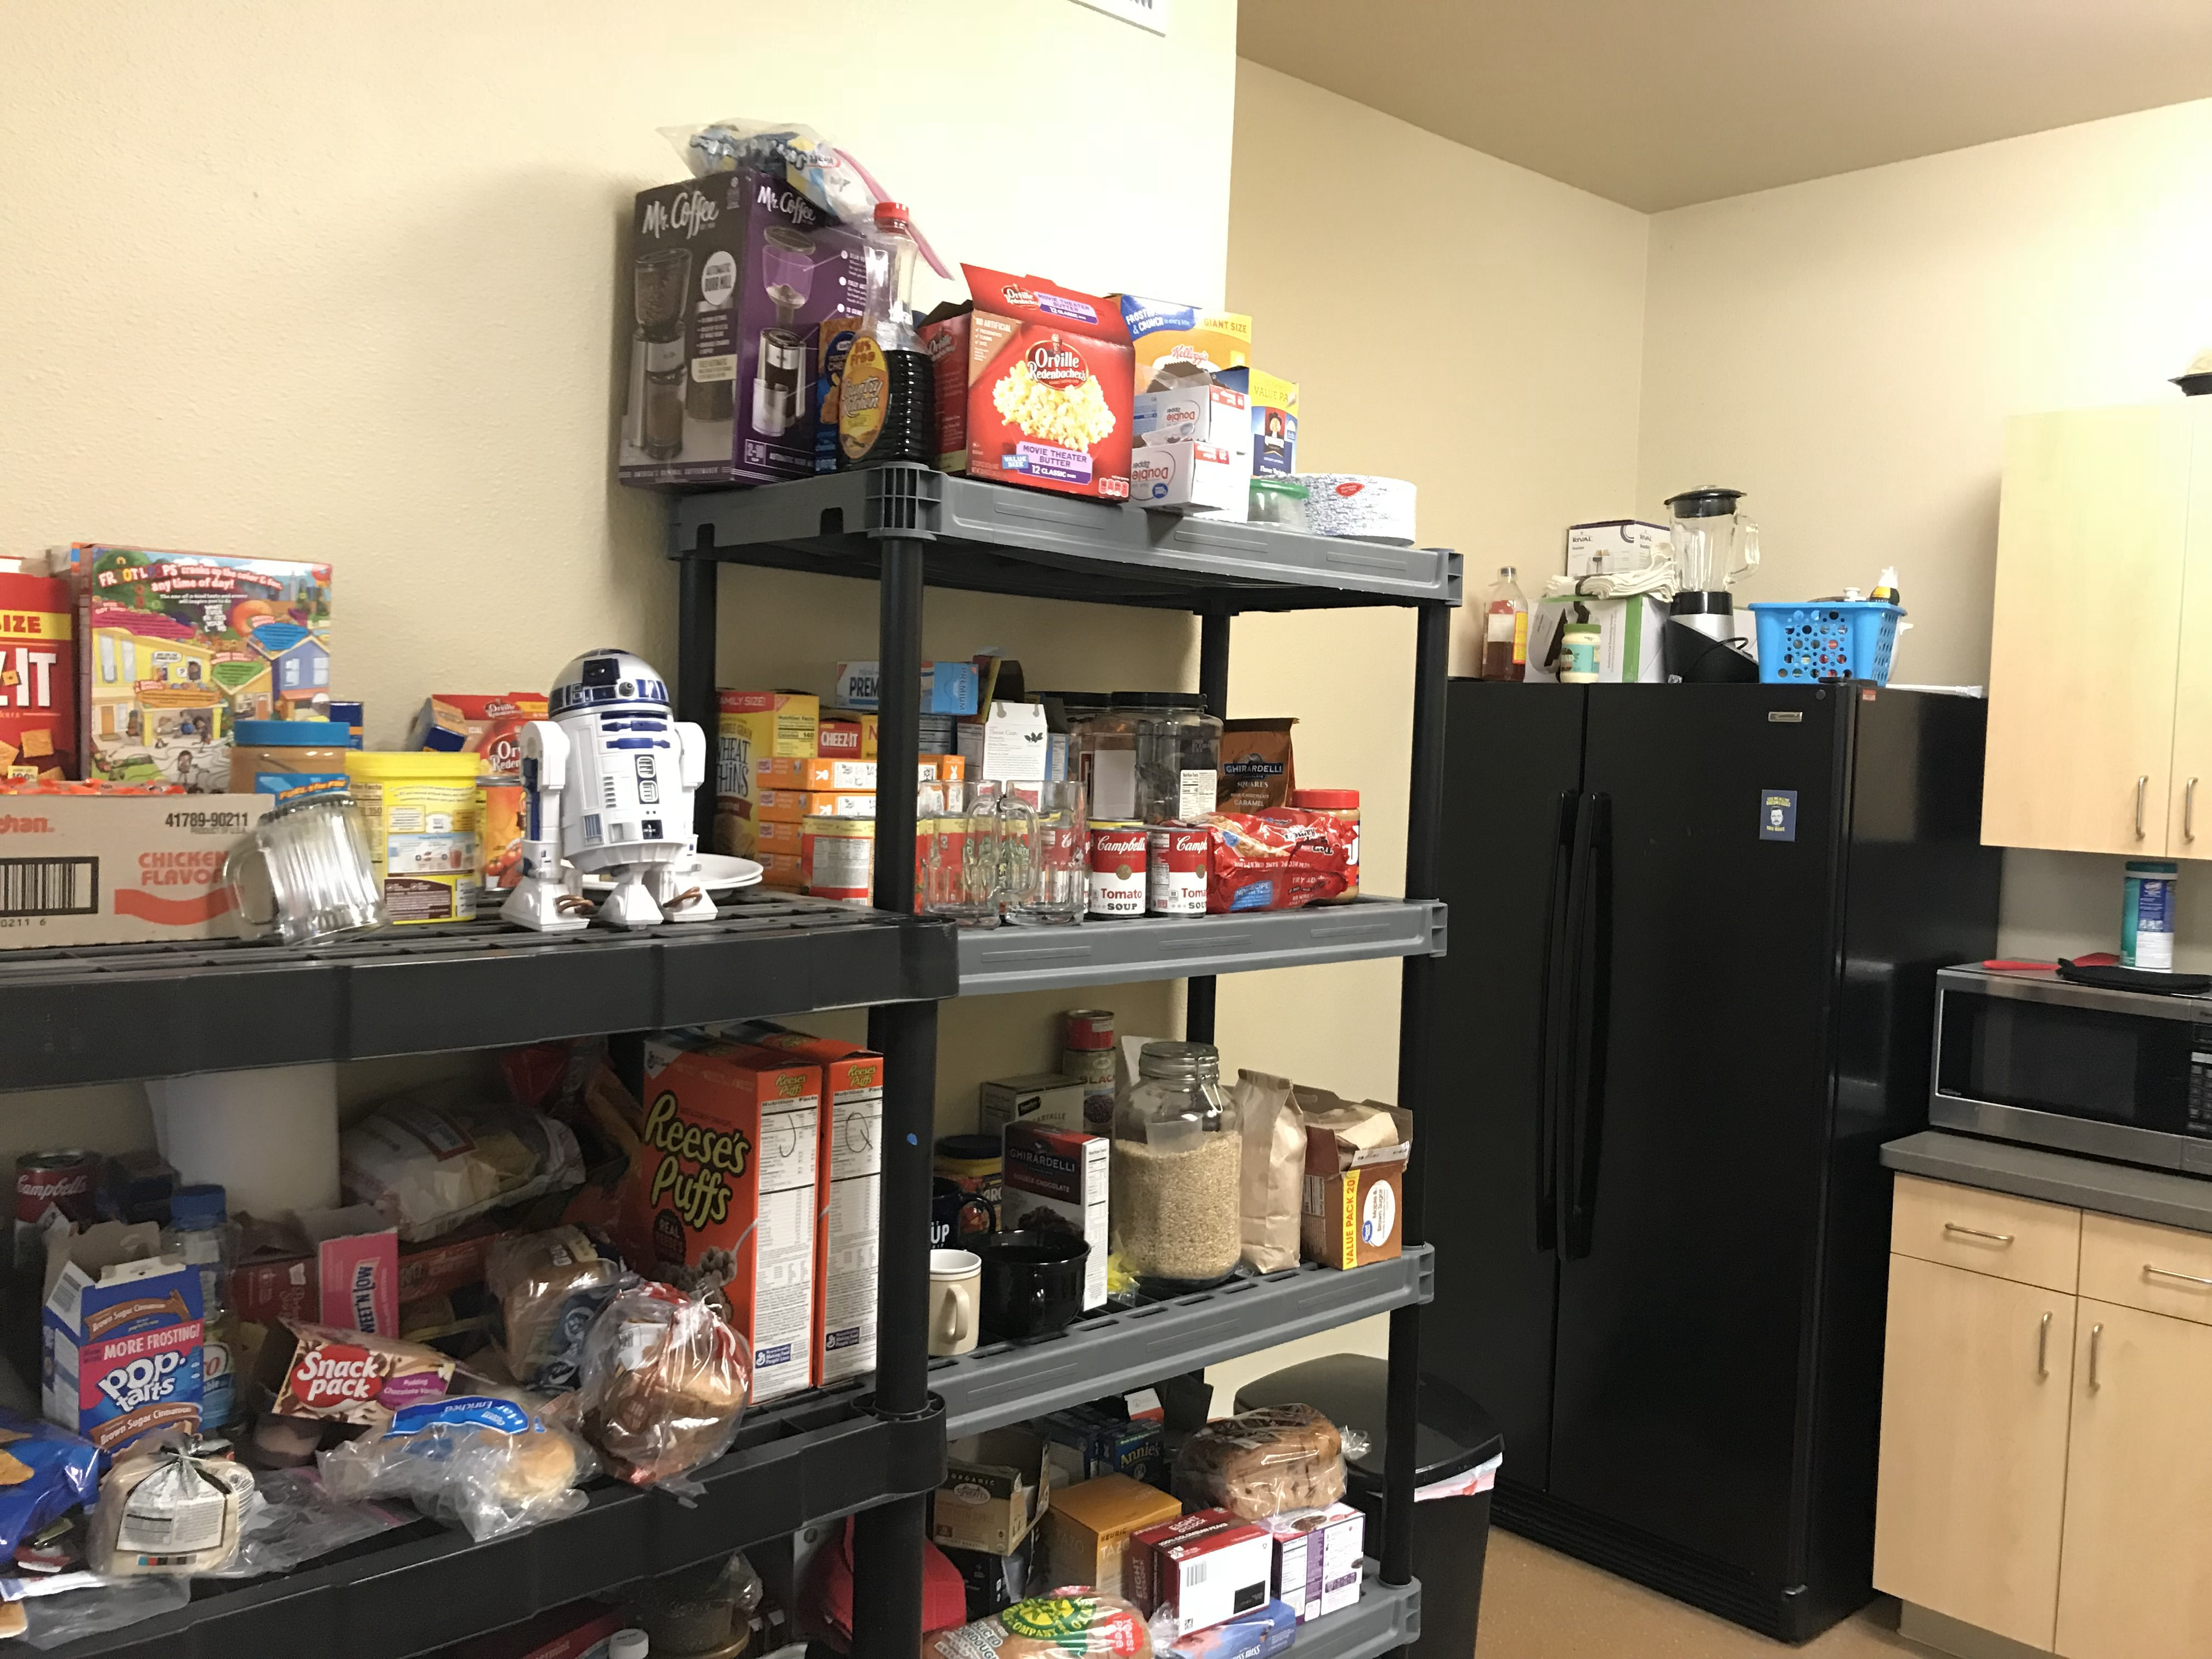r2d2: (510, 648, 719, 929)
